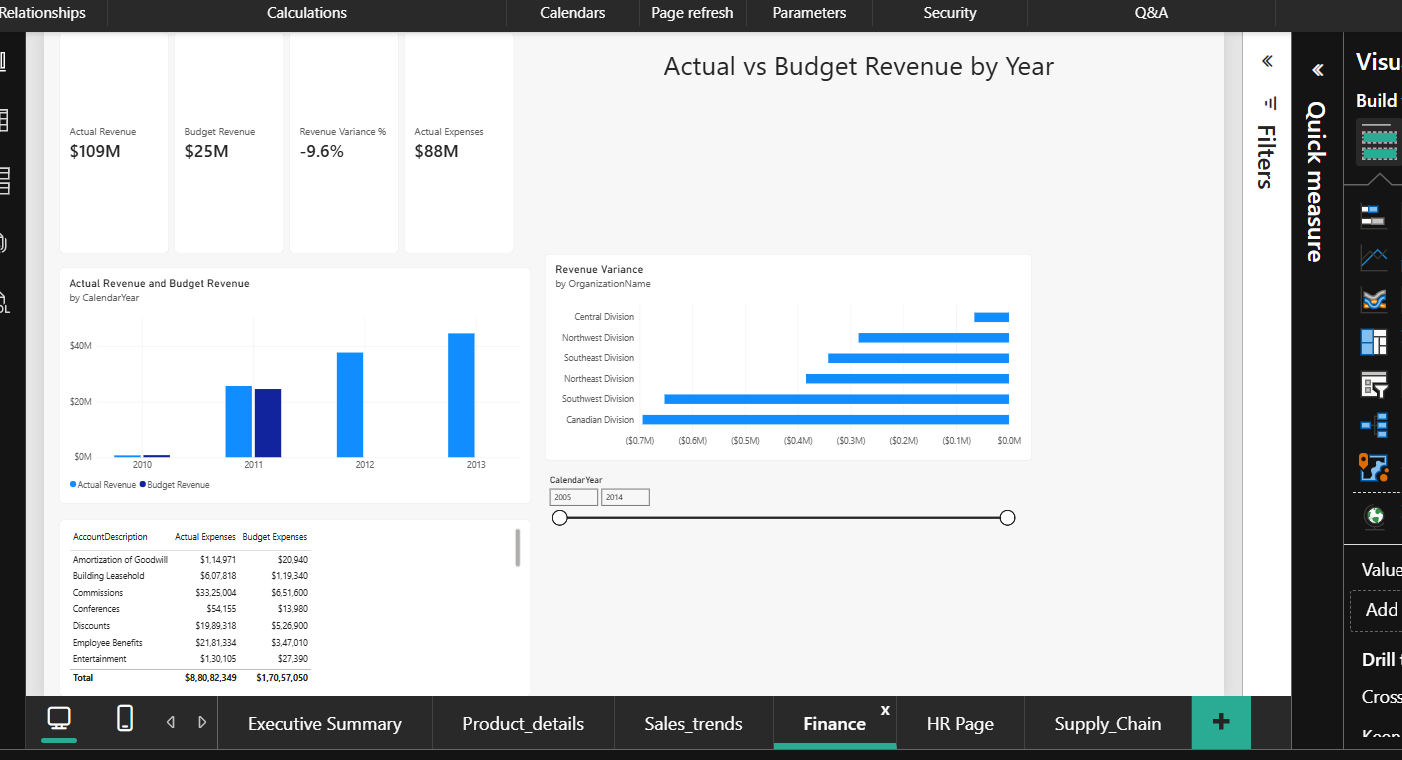

Layout of this report page (visuals, bound fields, positions):
{"tool":"powerbi","page":{"name":"Finance","canvas":[1920,1080],"ordinal":3},"visuals":[{"type":"cardVisual","fields":{"Data":["Finance.Actual Revenue","Finance.Budget Revenue","Finance.Revenue Variance %","Finance.Actual Expenses"]},"box":[24,0,744,360],"z":0},{"type":"clusteredColumnChart","fields":{"Category":["Date.CalendarYear"],"Y":["Finance.Actual Revenue","Finance.Budget Revenue"]},"box":[24,384,768,384],"z":1000},{"type":"clusteredBarChart","fields":{"Category":["Organization.OrganizationName"],"Y":["Finance.Revenue Variance"]},"box":[816,360,792,336],"z":2000},{"type":"tableEx","fields":{"Values":["Account.AccountDescription","Finance.Actual Expenses","Finance.Budget Expenses"]},"box":[24,792,768,288],"z":3000},{"type":"slicer","fields":{"Values":["Date.CalendarYear"]},"box":[816,720,768,360],"z":4000},{"type":"textbox","box":[1594,24,326,336],"z":5000},{"type":"textbox","box":[1008,24,792,72],"z":6000}]}

Visuals, with their boxes on the page's 1920x1080 design canvas (x1, y1, x2, y2). These are canvas units, not pixel positions in the 1402x760 screenshot, which may show the page scaled, cropped or inside an application window:
cardVisual - Finance.Actual Revenue x Finance.Budget Revenue: rect(24, 0, 768, 360)
clusteredColumnChart - Date.CalendarYear x Finance.Actual Revenue: rect(24, 384, 792, 768)
clusteredBarChart - Organization.OrganizationName x Finance.Revenue Variance: rect(816, 360, 1608, 696)
tableEx - Account.AccountDescription x Finance.Actual Expenses: rect(24, 792, 792, 1080)
slicer - Date.CalendarYear: rect(816, 720, 1584, 1080)
textbox: rect(1594, 24, 1920, 360)
textbox: rect(1008, 24, 1800, 96)
